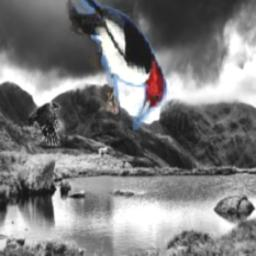Crow: (27, 103, 64, 147)
Woodpecker: (66, 0, 178, 132)
